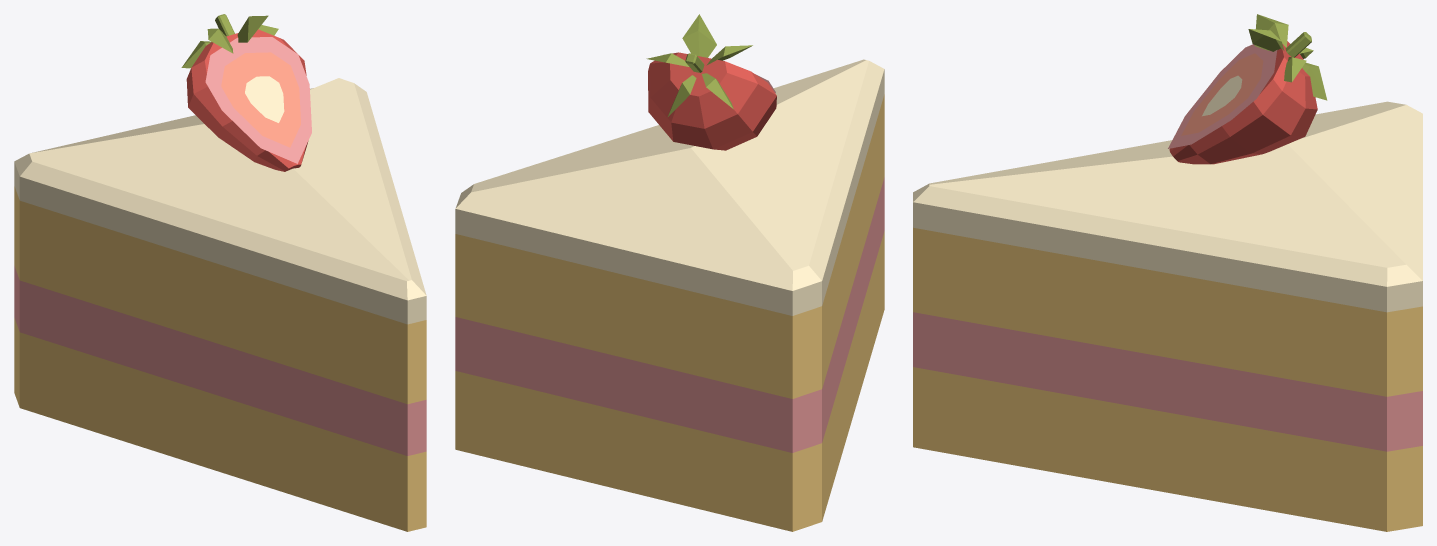
Rendered from 18-cake-slice.glb.
3 renders of one model, left to right at view 1: azimuth 30°, elevation 25°; view 2: azimuth 150°, elevation 25°; view 3: azimuth 270°, elevation 25°, orthographic. The views are drawn at different scales.
Parts seen in each view (by area): view 1: Bottom sponge; view 2: Bottom sponge; view 3: Bottom sponge.
Part boxes in pixels (x1,y1,x2,y2): Bottom sponge: [14, 14, 426, 531]; Bottom sponge: [455, 14, 884, 531]; Bottom sponge: [913, 14, 1422, 531].
Bounding box in the file's own units: 1.82 × 1.98 × 2.19.
